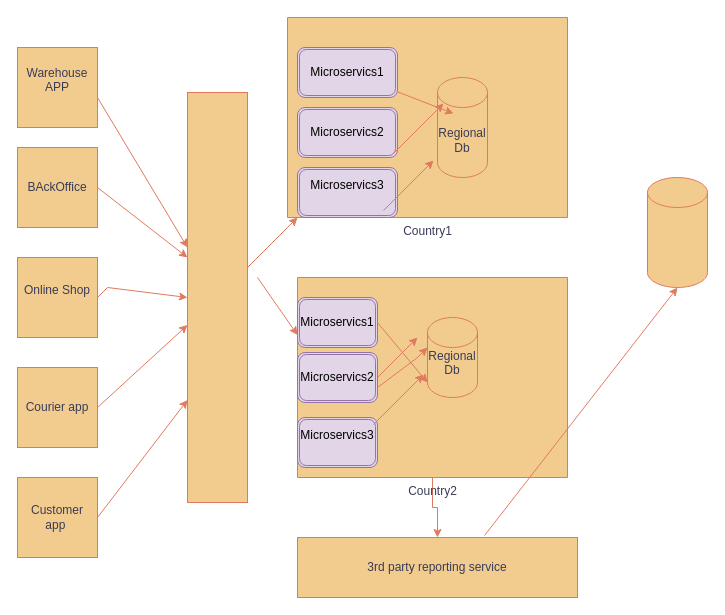
Some shapes in this 725 by 615 pixel diagram are drawn without their labels. The shapes that lost their labels are listed below. From the top down, each one's centre as x and y in pixels, then its label:
the point at 677,232: Global Data warehouse
the point at 217,297: API Gateway
